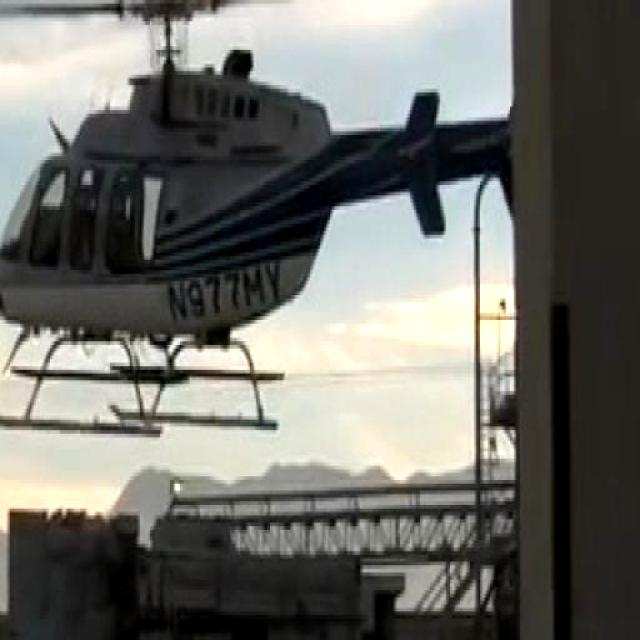drone: (0, 0, 514, 438)
